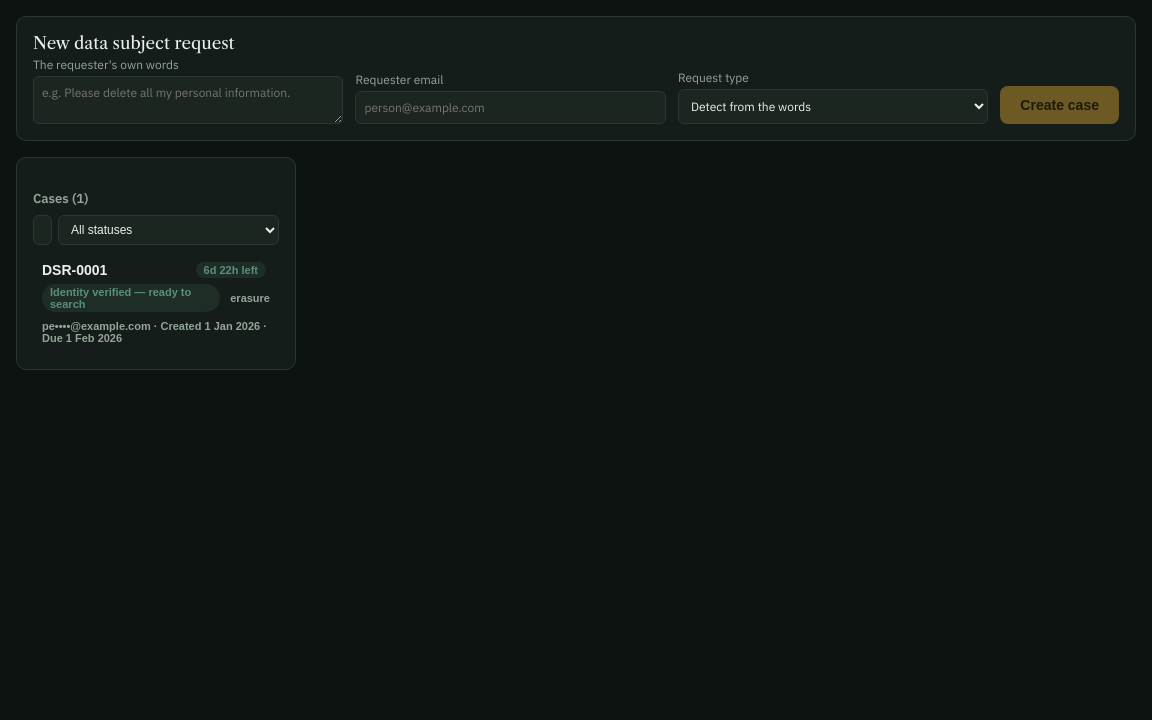
Test: DsrDashboard: evidence tab reflects actual search outcome, not just evidence count › evidence with no search behind it is not shown as a result
Expected: the text "DSR-0001" is shown, [42,262,107,278]
Click the button "DSR-0001": (156, 303) [33,253,279,353]
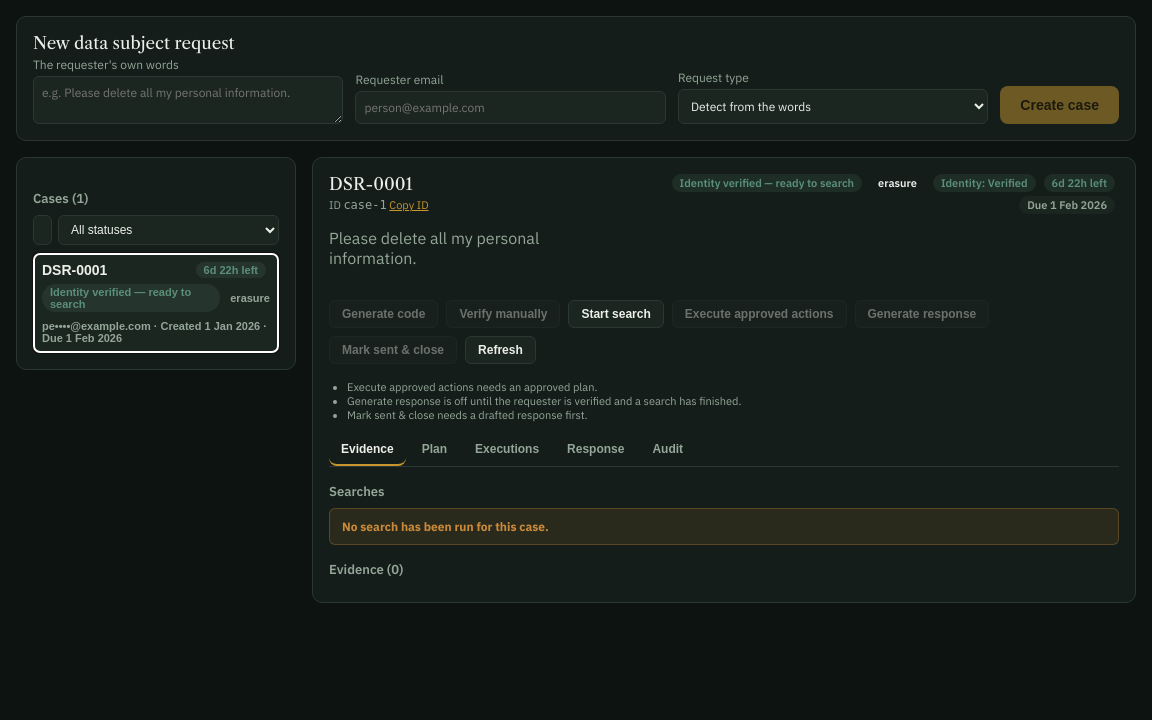
Expected: the heading "DSR-0001" is shown, [329,174,413,194]
Expected: the heading "Evidence (0)" is shown, [329,561,403,578]
